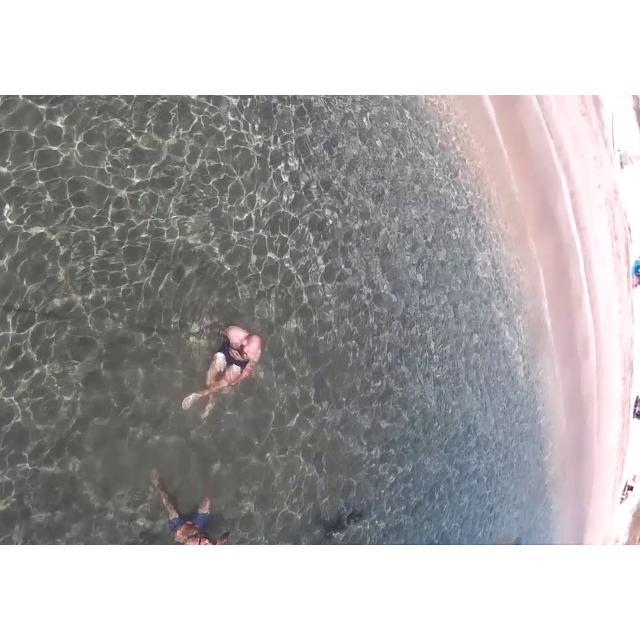human: (169, 297, 265, 435)
